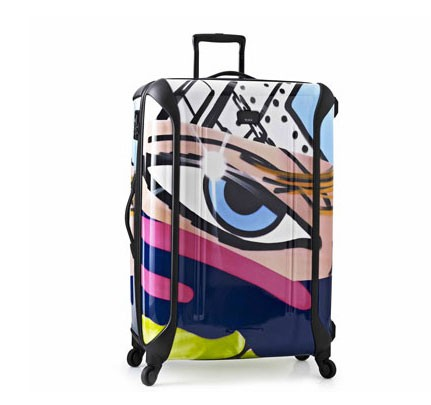suitcase: (122, 32, 338, 387)
